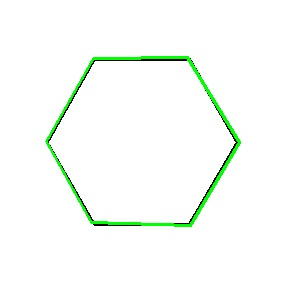line_segment: (46, 57, 240, 227)
